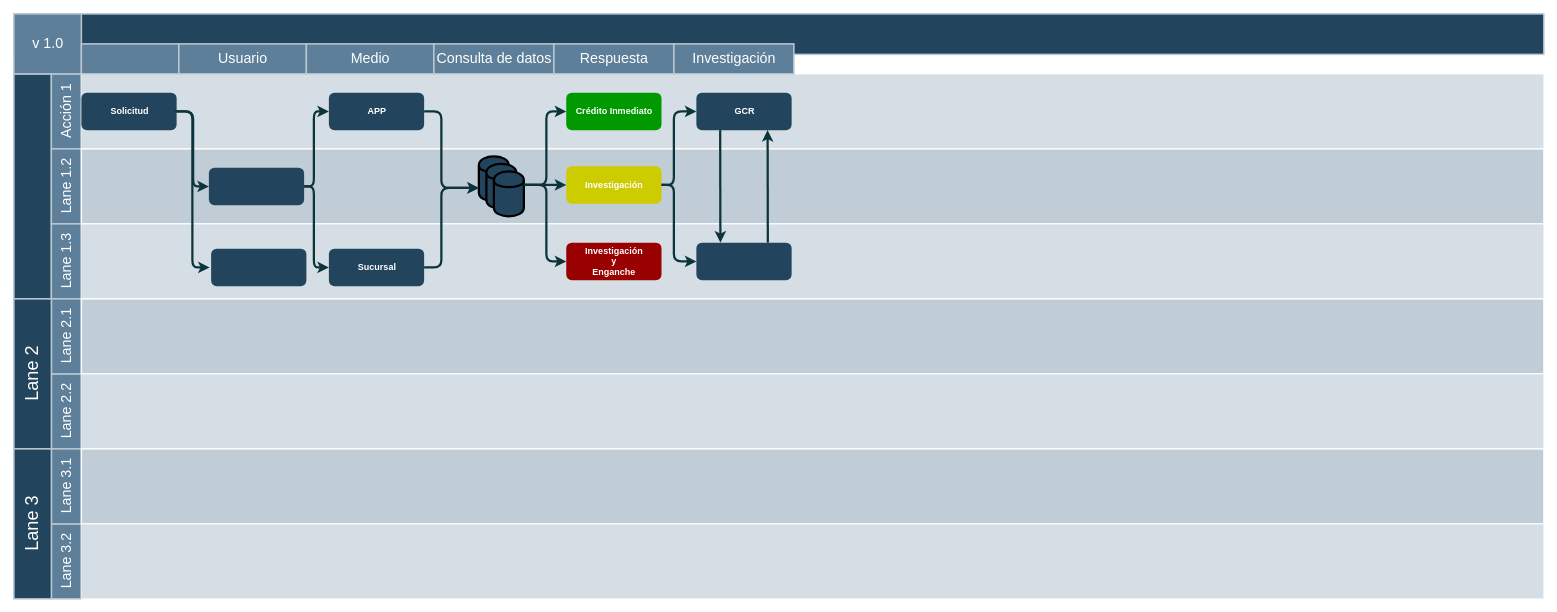
Image size: 1557x612. Some labels were removed from this diagram. Each missing label, with the box of its shape:
Datos: (492, 170, 525, 217)
Flujo de solicitud de crédito.: (13, 13, 1544, 55)
Inicio: (80, 43, 179, 74)
Lane 1: (13, 73, 52, 299)
Mesa de Control: (696, 242, 791, 280)
Nuevo: (208, 167, 304, 205)
Recompra: (211, 248, 306, 286)
